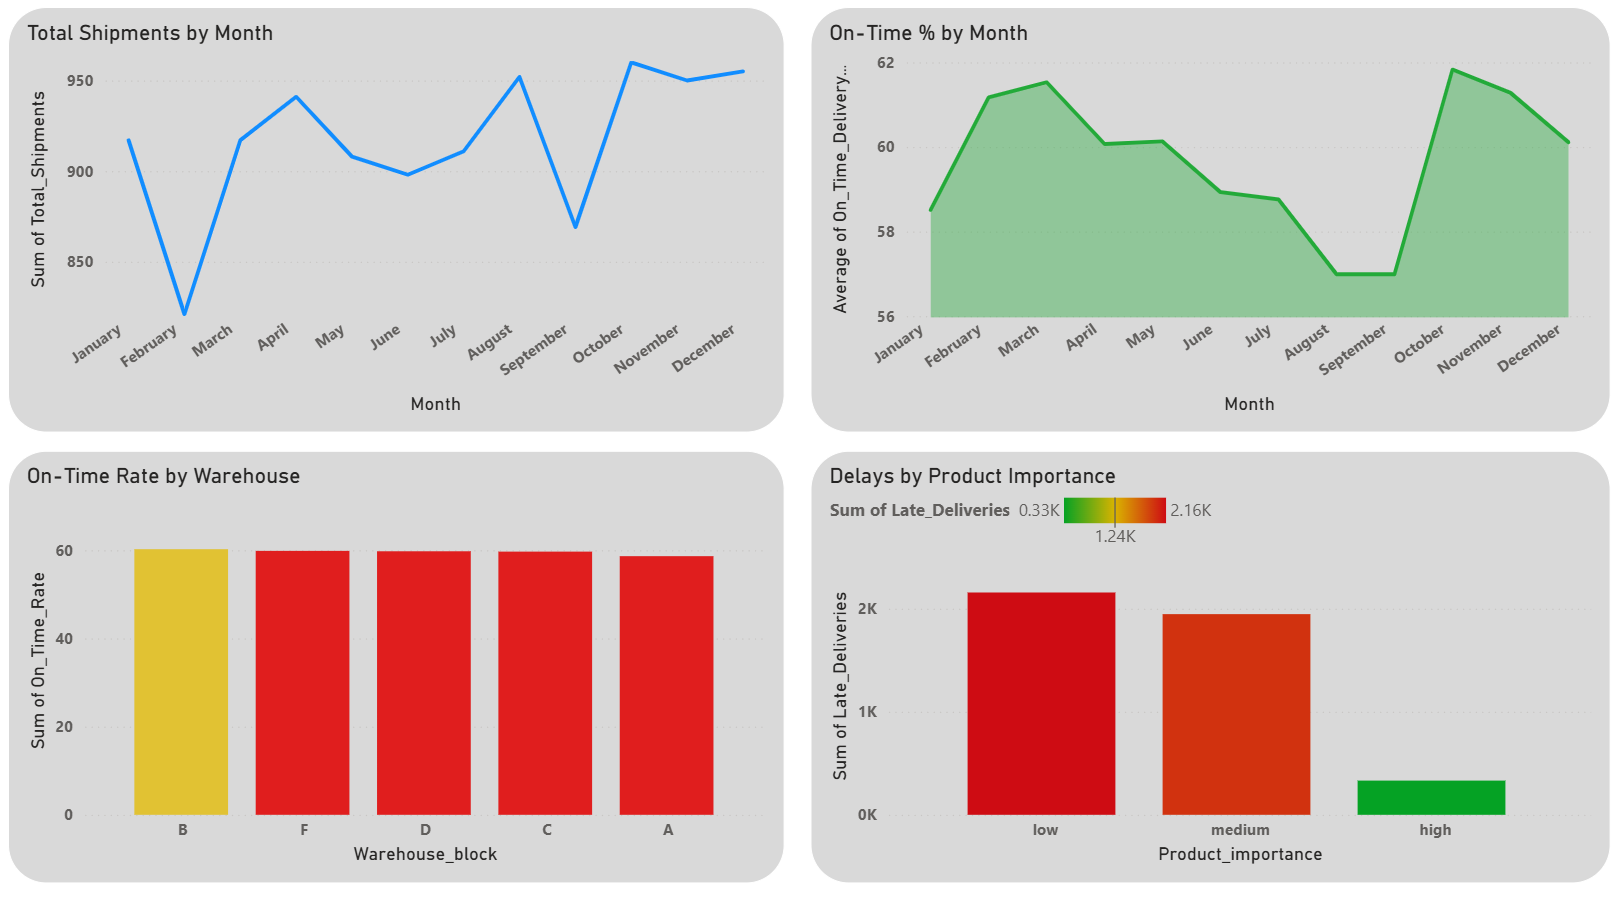

What the dashboard file says about the page in this screenshot:
{"tool":"powerbi","page":{"name":"Python Insights Dashboard","canvas":[1280,720],"ordinal":1},"visuals":[{"type":"lineChart","title":"Total Shipments by Month","fields":{"Category":["monthly_trend.Shipment_Month.Variation.Date Hierarchy.Month"],"Y":["Sum(monthly_trend.Total_Shipments)"]},"box":[11.9,11.9,608.5,333.9],"z":0},{"type":"clusteredColumnChart","title":"On-Time Rate by Warehouse","fields":{"Y":["Sum(warehouse_performance.On_Time_Rate)"],"Category":["warehouse_performance.Warehouse_block"]},"box":[11.9,359.3,608.5,339],"z":1000},{"type":"columnChart","title":"Delays by Product Importance","fields":{"Y":["Sum(category_delay.Late_Deliveries)"],"Category":["category_delay.Product_importance"]},"box":[640.7,359.3,627.1,339],"z":2000},{"type":"areaChart","title":"On-Time % by Month","fields":{"Y":["Avg(on_time_delivery_by_month.On_Time_Delivery_Rate)"],"Category":["on_time_delivery_by_month.Shipment_Month.Variation.Date Hierarchy.Month"]},"box":[640.7,11.9,627.1,333.9],"z":3000}]}

Visuals, with their boxes in screenshot pixels (x1, y1, x2, y2), scaled from the page's 1280x720 canvas onto the 1617x899 screenshot:
"Total Shipments by Month" lineChart: (x1=15, y1=15, x2=784, y2=432)
"On-Time Rate by Warehouse" clusteredColumnChart: (x1=15, y1=449, x2=784, y2=872)
"Delays by Product Importance" columnChart: (x1=809, y1=449, x2=1602, y2=872)
"On-Time % by Month" areaChart: (x1=809, y1=15, x2=1602, y2=432)
